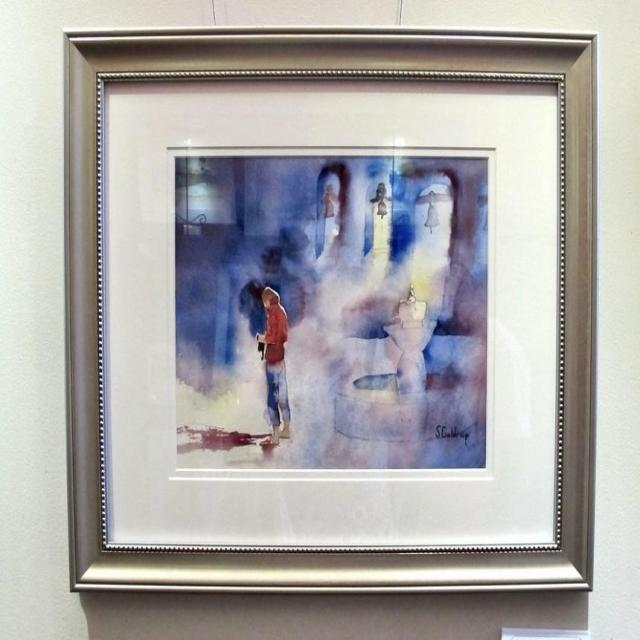painting: (64, 28, 595, 589)
